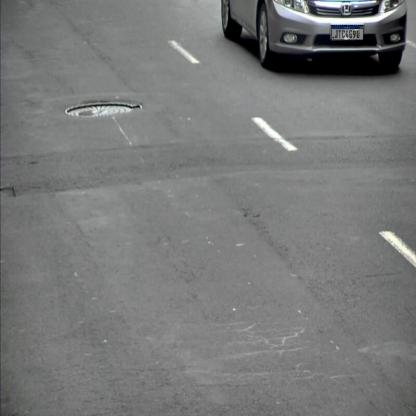PlacaM: (332, 25, 364, 40)
